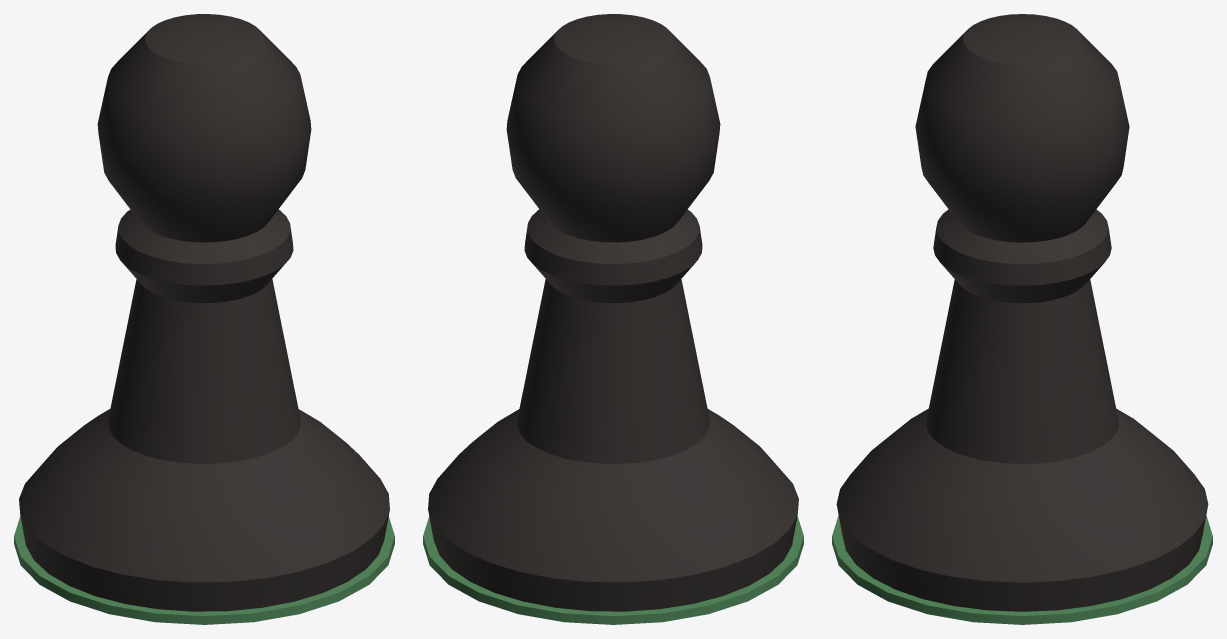
File: chess_pawn_b.glb
3 renders of one model, left to right at view 1: azimuth 30°, elevation 25°; view 2: azimuth 150°, elevation 25°; view 3: azimuth 270°, elevation 25°, orthographic.
Visible parts, largest first — view 1: Piece, Felt; view 2: Piece, Felt; view 3: Piece, Felt.
Boxes of the visible parts, x1,y1,x2,y2 form: Piece: (19,14,389,611); Felt: (14,516,394,624); Piece: (428,14,798,611); Felt: (423,516,803,624); Piece: (836,14,1208,611); Felt: (832,515,1212,624).
Bounding box in the file's own units: 0.0313 × 0.0471 × 0.0313.
